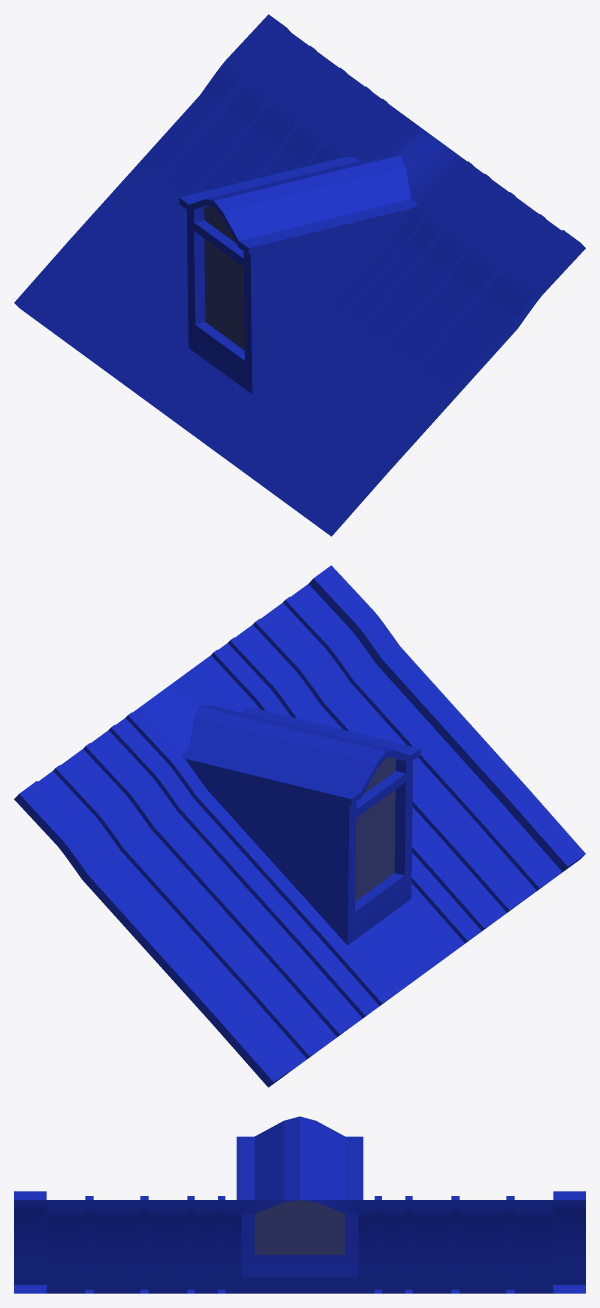
Rendered from RoofOneWindow.fbx.
3 renders of one model, top to bottom at view 1: azimuth 30°, elevation 25°; view 2: azimuth 150°, elevation 25°; view 3: azimuth 270°, elevation 25°, orthographic. The views are drawn at different scales.
Parts seen in each view (by area): view 1: Plane008; view 2: Plane008; view 3: Plane008.
Part boxes in pixels (left/top/right/bottom): Plane008: left=14, top=14, right=585, bottom=536; Plane008: left=14, top=565, right=585, bottom=1087; Plane008: left=14, top=1116, right=585, bottom=1293.
Size of the model in its own units: 2.4 by 2.06 by 5.
